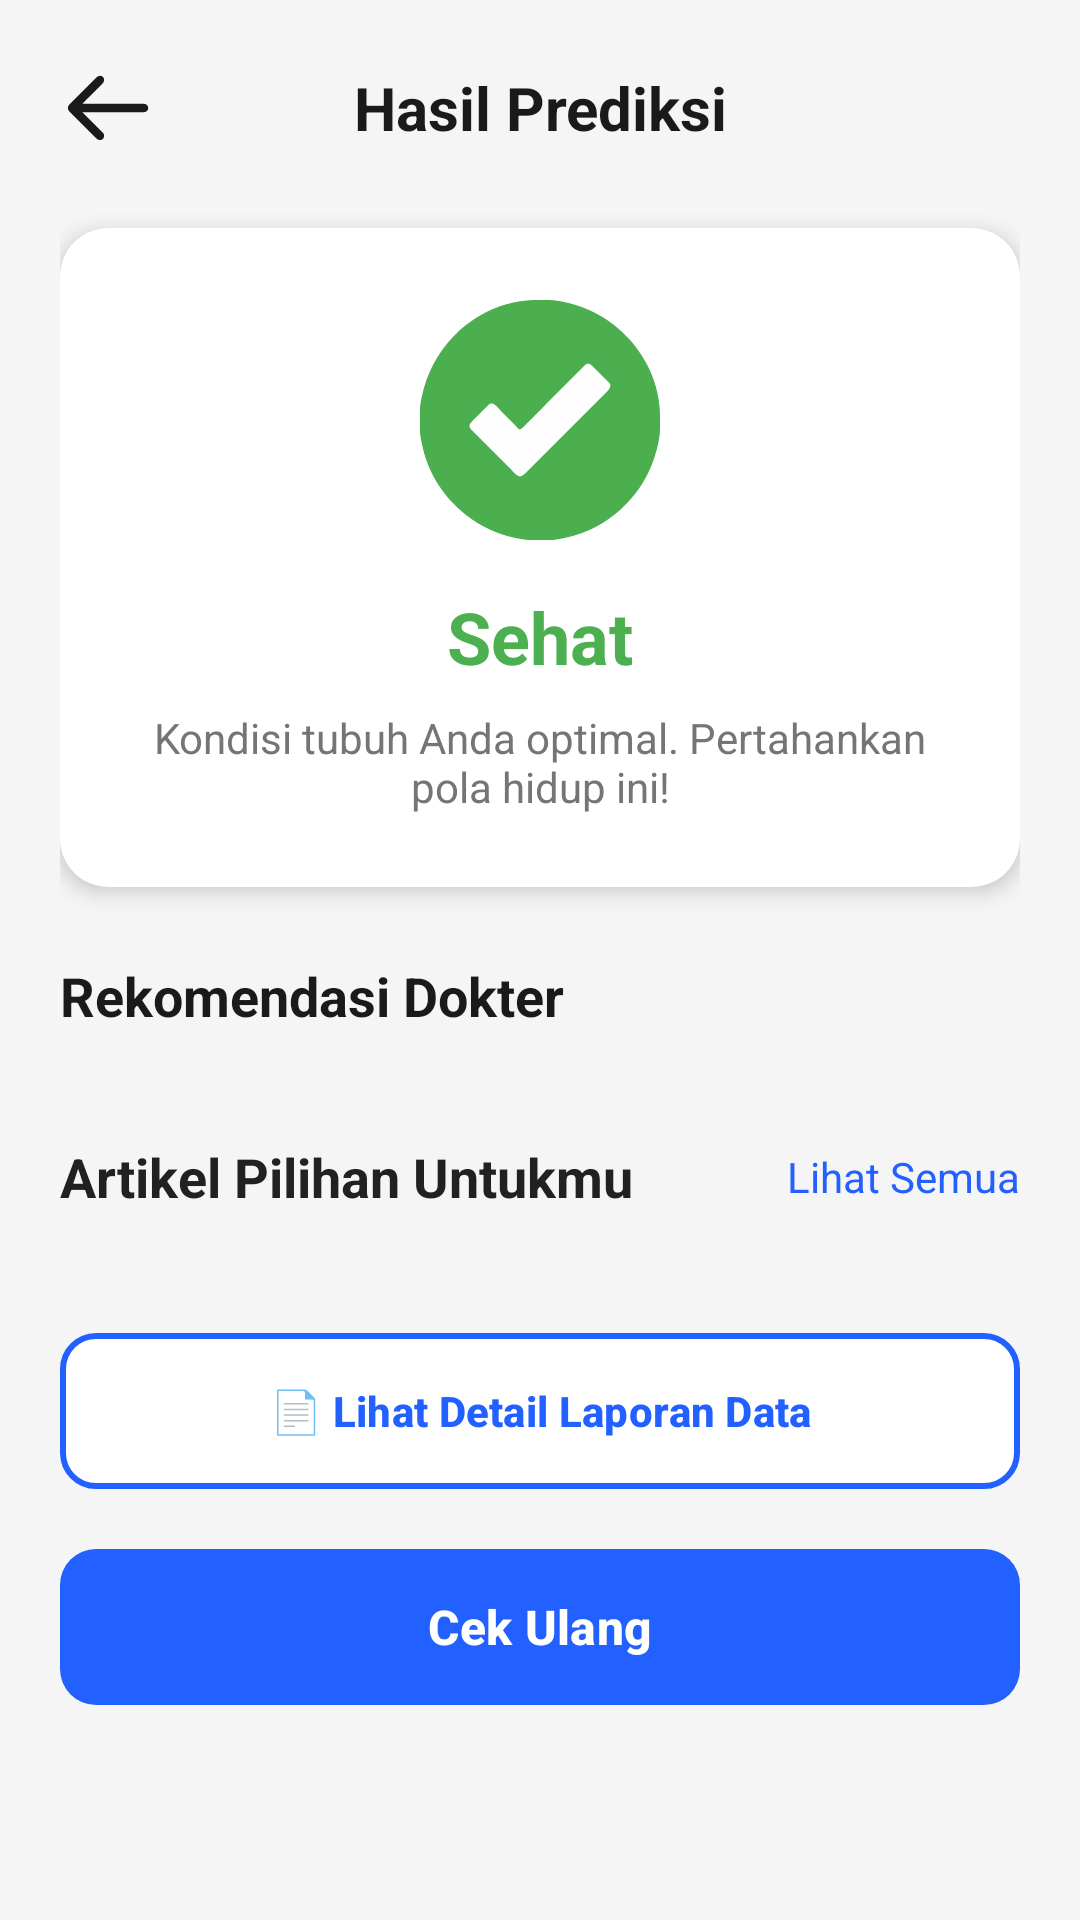

Icons on this 1080px×1920px Android screen, each with the point to tap as [x,y]:
Back: [108,107]
Status Icon: [540,420]
